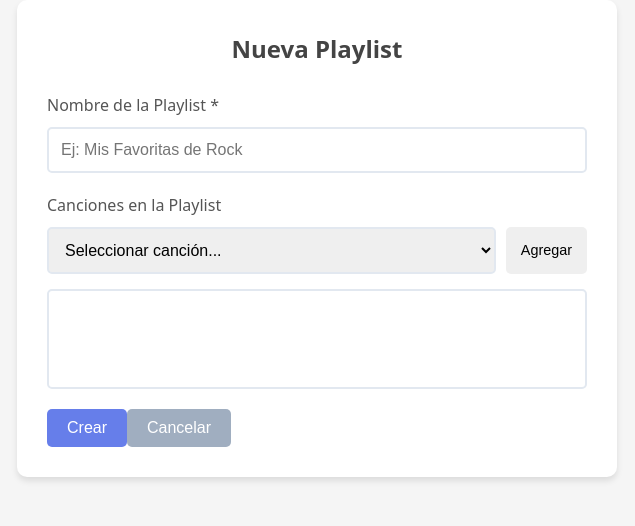
PlaylistForm › muestra el error del servidor por nombre repetido
Type "Mix" into the field labelled "Nombre de la Playlist *" at point(317, 150), box [47, 127, 587, 173]
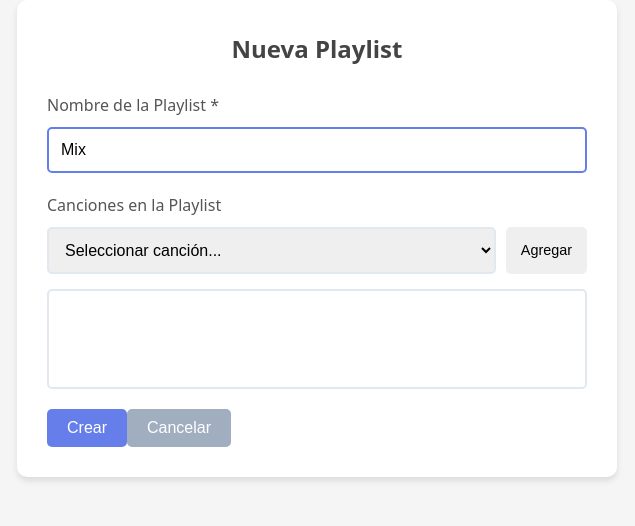
Click the button "Crear" at point(87, 428), box [47, 409, 127, 447]
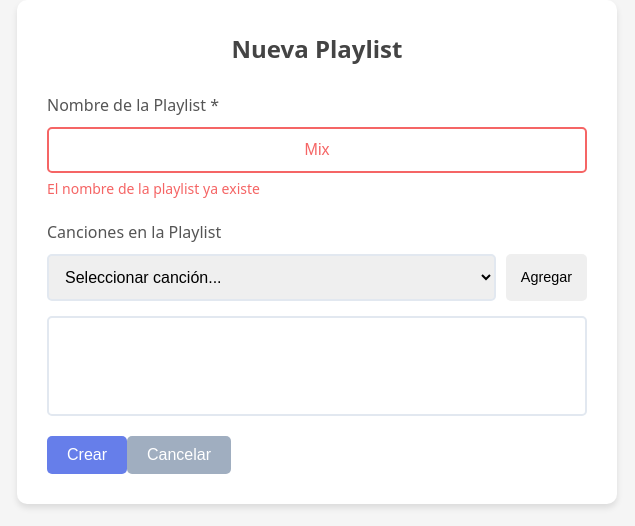
Now the text "El nombre de la playlist ya existe" is shown, box [47, 179, 260, 198]
